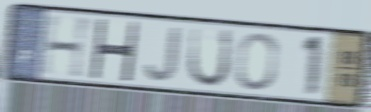1: (301, 34, 326, 98)
H: (37, 13, 97, 81), (87, 16, 141, 84)
J: (143, 25, 183, 84)
O: (233, 31, 281, 93)
U: (185, 24, 235, 90)
